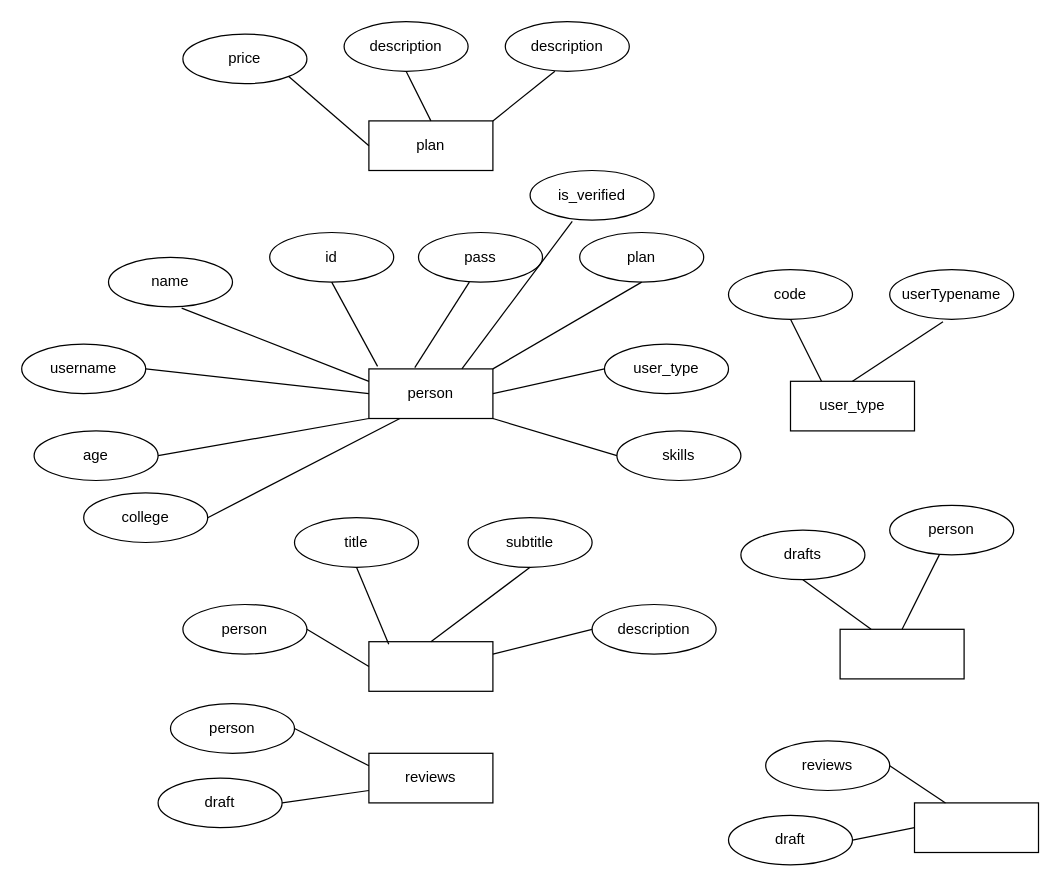
The diagram is 1060 pixels wide and 887 high, and some of its shapes have lost their labels. The box of each missing label's shape, as (x1, y1, x2, y2) in pixels:
activities: (913, 802, 1038, 852)
Drafts.: (368, 640, 493, 691)
tags: (839, 628, 964, 679)
